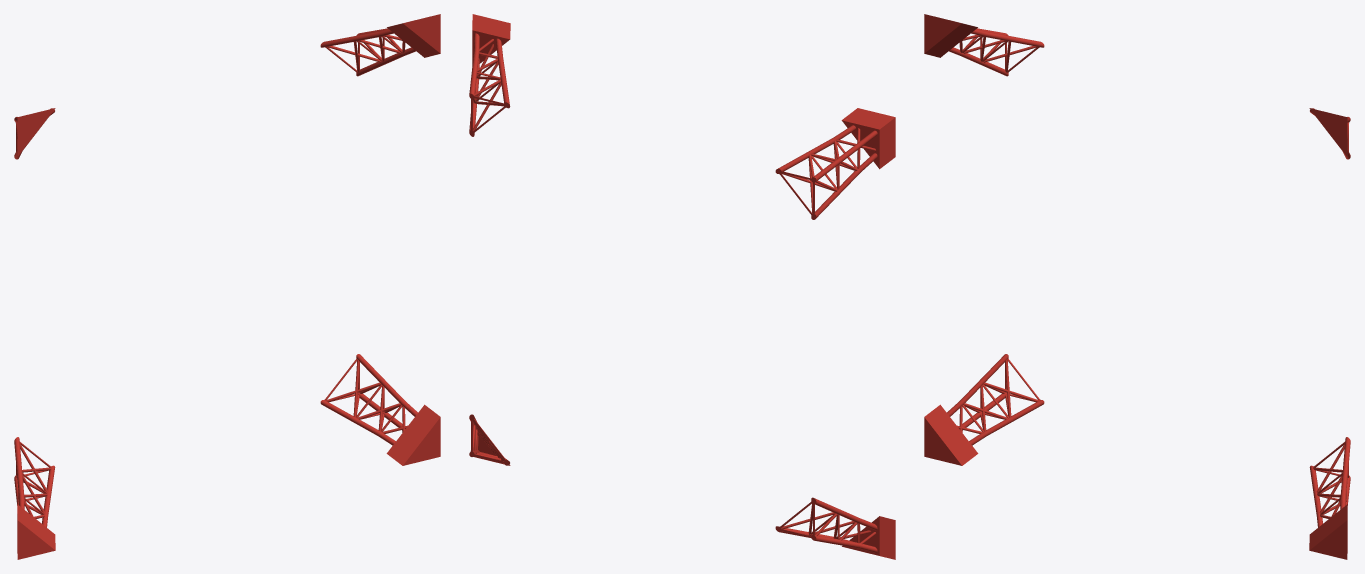
The picture shows the model from 3 angles, left to right: view 1: azimuth 30°, elevation 25°; view 2: azimuth 150°, elevation 25°; view 3: azimuth 330°, elevation 25°; orthographic projection.
Visible parts, largest first — view 1: H1c; view 2: H1c; view 3: H1c.
Boxes of the visible parts, x1,y1,x2,y2 form: H1c: (14, 14, 440, 559); H1c: (469, 14, 895, 559); H1c: (924, 14, 1350, 559).
Size of the model in its own units: 88.6 by 88.6 by 15.
